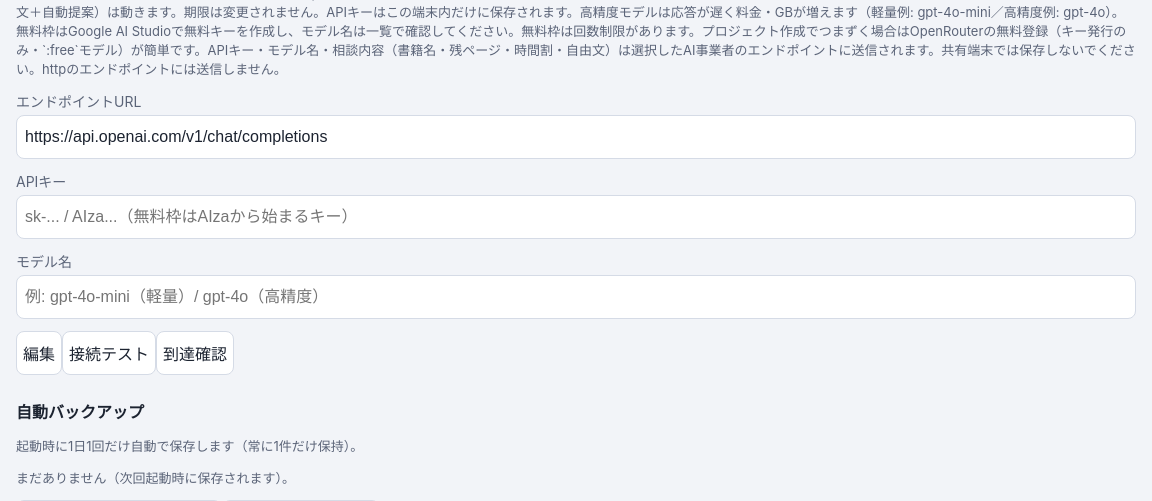
adjustment AI settings › reports a successful AI connection test
(page scrolled)
Step 1. Click the button with test id "edit-ai" → (39, 353), box [16, 331, 62, 375]
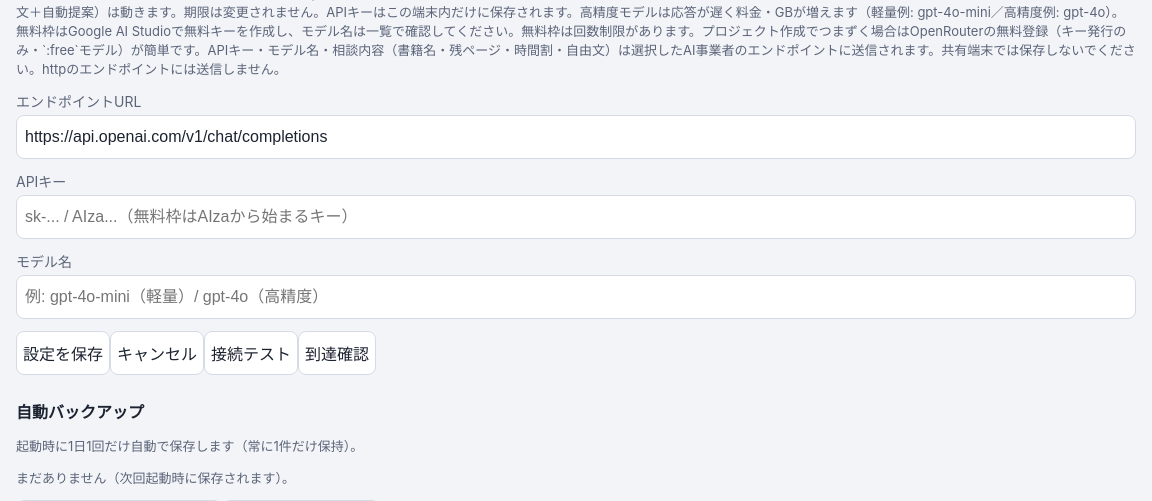
Step 2. Type "sk-test" into the password field with test id "ai-api-key" → (576, 217), box [16, 195, 1136, 239]
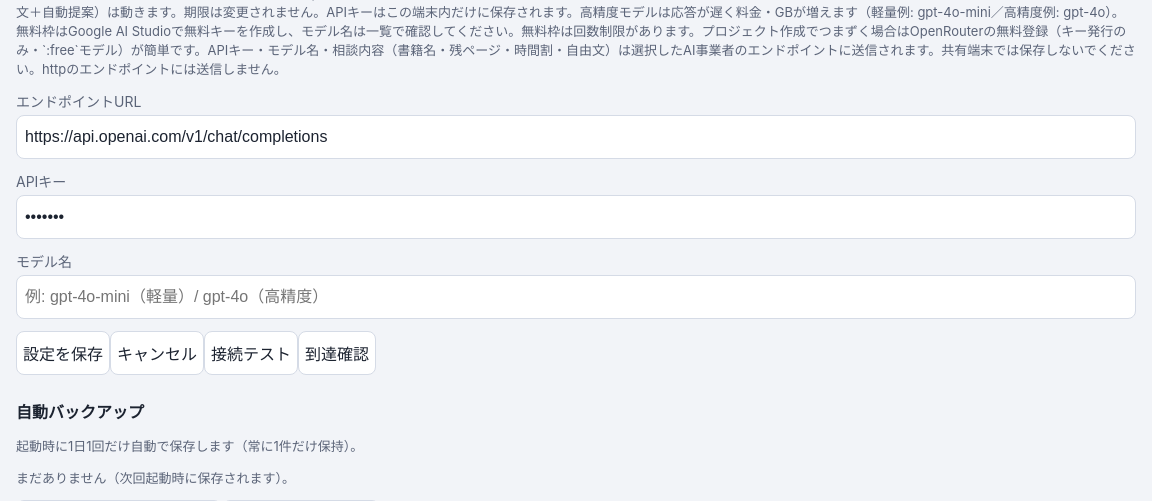
Step 3. Type "gpt-4o" into the field with test id "ai-model" → (576, 297), box [16, 275, 1136, 319]
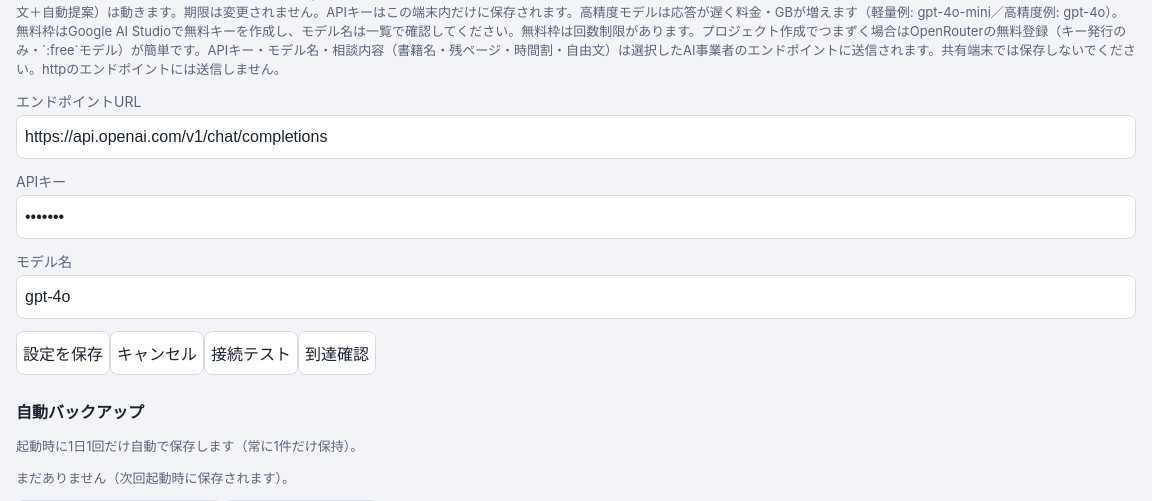
Step 4. Click the button with test id "ai-test" → (251, 353), box [204, 331, 298, 375]
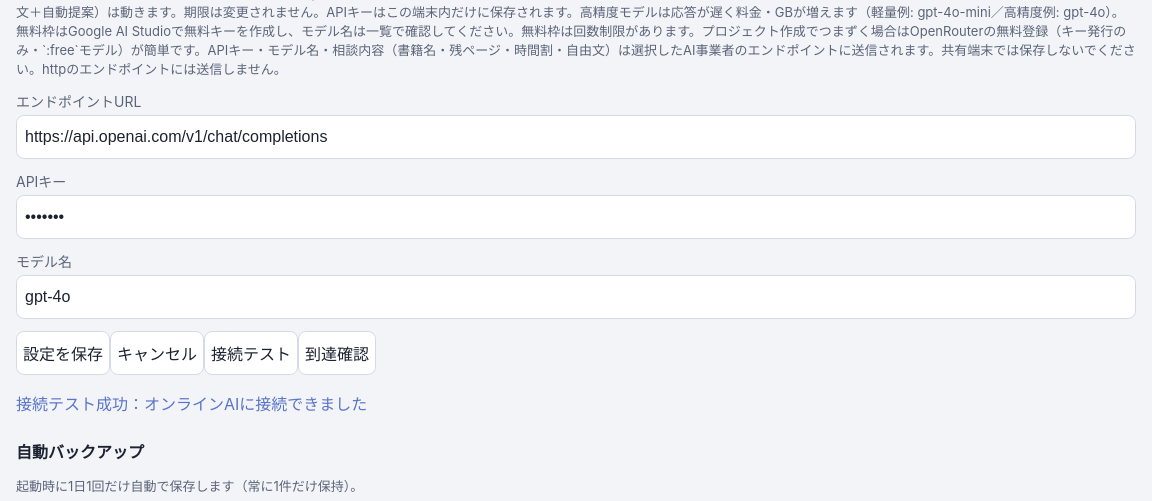
Now the text with test id "ai-test-result" shows "接続テスト成功", box [16, 394, 367, 414]
